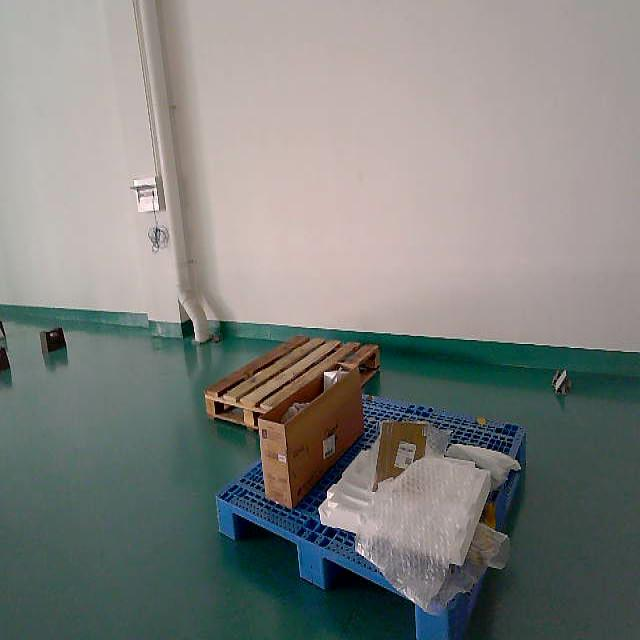euro: (205, 336, 379, 431)
